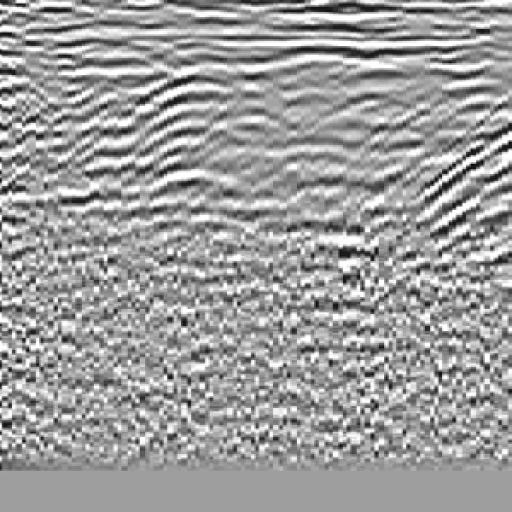metalic: (99, 33, 270, 229)
nonmetalic: (394, 70, 512, 298)
